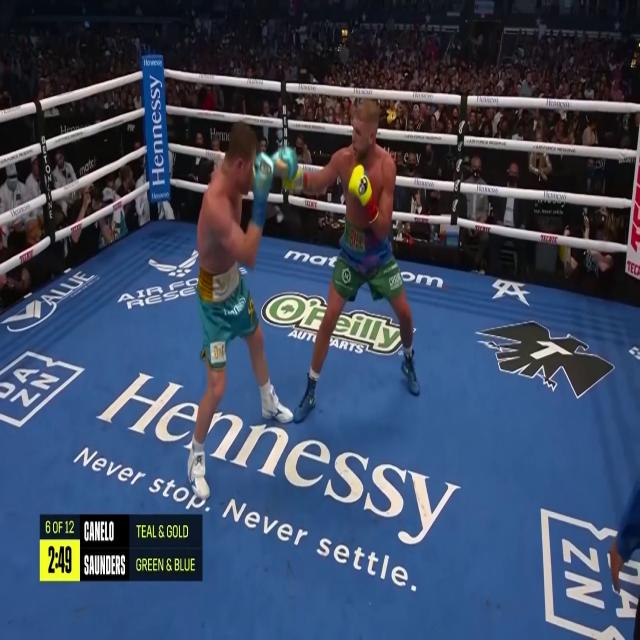boxer_1: (339, 99, 387, 232)
boxer_2: (197, 121, 259, 276)
gloves_1: (348, 165, 378, 224), (281, 167, 309, 191)
gloves_2: (249, 149, 299, 230)
